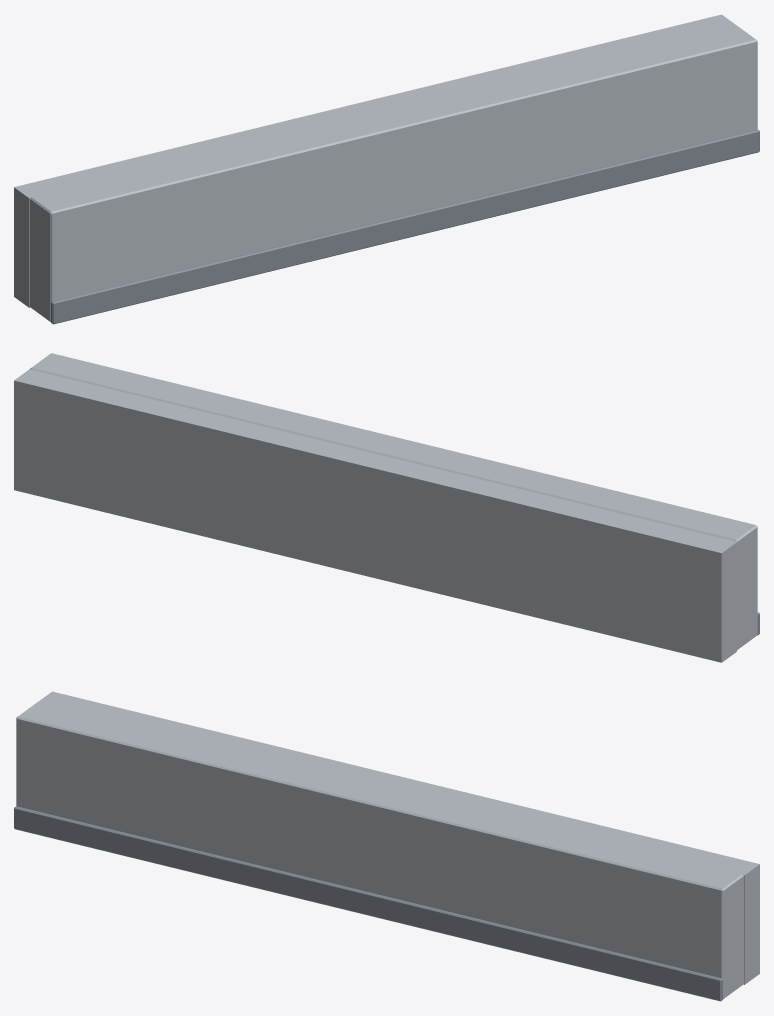
The model's file is soco_h30_2m.glb.
3 views of the same model, one above another, from view 1: azimuth 30°, elevation 25°; view 2: azimuth 150°, elevation 25°; view 3: azimuth 330°, elevation 25° (orthographic).
Parts seen in each view (by area): view 1: soco_h30_2m; view 2: soco_h30_2m; view 3: soco_h30_2m.
Boxes of the visible parts, x1,y1,x2,y2 form: soco_h30_2m: (14, 14, 759, 324); soco_h30_2m: (14, 353, 759, 662); soco_h30_2m: (14, 691, 759, 1001).
Size of the model in its own units: 2 by 0.3 by 0.19.
Materials: 1 (1 with a texture image).
